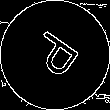P_SE: (24, 26, 86, 84)
